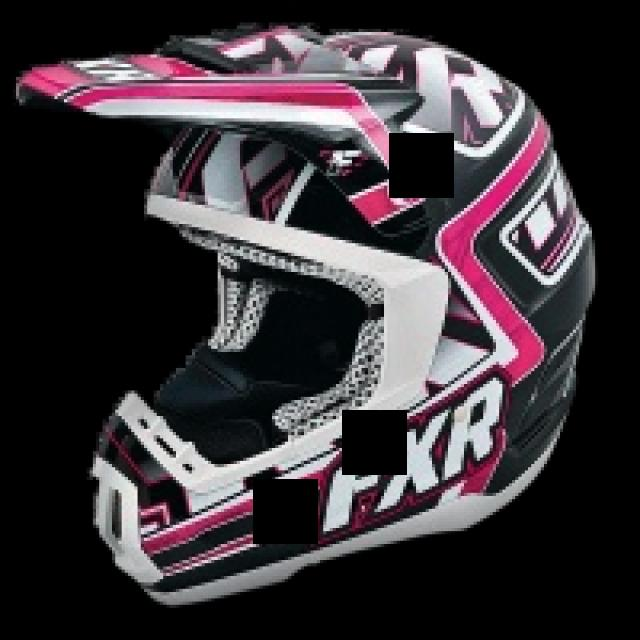Helmet: (19, 25, 594, 604)
